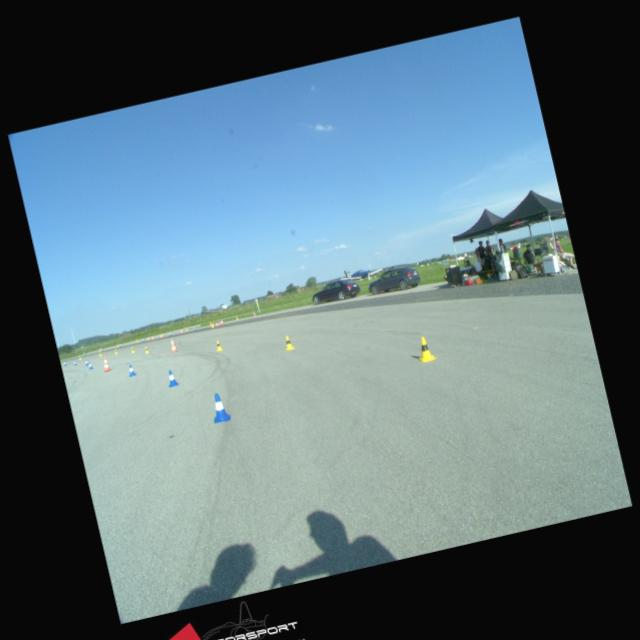blue_cone: (208, 392, 230, 424), (164, 369, 178, 386), (126, 362, 135, 376), (86, 360, 92, 370), (62, 360, 67, 366), (72, 360, 77, 366), (84, 358, 88, 365)
large_orange_cone: (100, 355, 110, 370), (169, 338, 177, 352)
yellow_cone: (413, 335, 435, 362), (282, 334, 294, 350), (214, 339, 222, 351), (144, 346, 148, 354), (130, 346, 134, 352), (114, 348, 118, 354), (78, 354, 82, 360), (99, 351, 102, 356)
